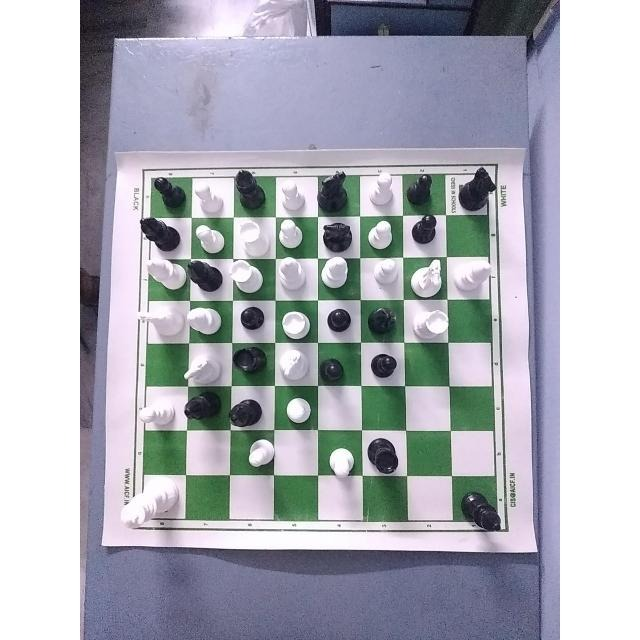black-bishop: (454, 476, 514, 534), (235, 162, 275, 217), (183, 382, 227, 430), (181, 254, 227, 298), (133, 213, 183, 251), (226, 391, 265, 433), (367, 297, 399, 341)
black-knight: (456, 164, 503, 212), (315, 218, 367, 254), (318, 168, 350, 212)
black-pawn: (360, 345, 404, 384), (238, 299, 276, 343), (149, 173, 193, 211), (404, 168, 447, 205), (319, 303, 363, 338), (317, 353, 359, 383), (410, 209, 447, 241)
black-rook: (234, 344, 276, 388), (366, 435, 404, 478)
white-bishop: (139, 257, 185, 297), (453, 258, 493, 302), (182, 302, 230, 338), (316, 254, 354, 295), (274, 253, 310, 295)
white-king: (117, 477, 183, 531)
white-knight: (181, 342, 227, 386), (408, 255, 452, 297), (134, 305, 186, 340), (275, 346, 315, 387)
white-pawn: (188, 215, 228, 256), (365, 165, 396, 217), (276, 396, 319, 430), (134, 397, 177, 430), (272, 180, 316, 212), (324, 442, 360, 480), (276, 215, 311, 254), (192, 177, 227, 216), (240, 435, 275, 473), (366, 218, 395, 253), (374, 256, 402, 289)
white-rook: (229, 258, 279, 296), (273, 302, 321, 341), (233, 215, 277, 256), (408, 302, 452, 343)
